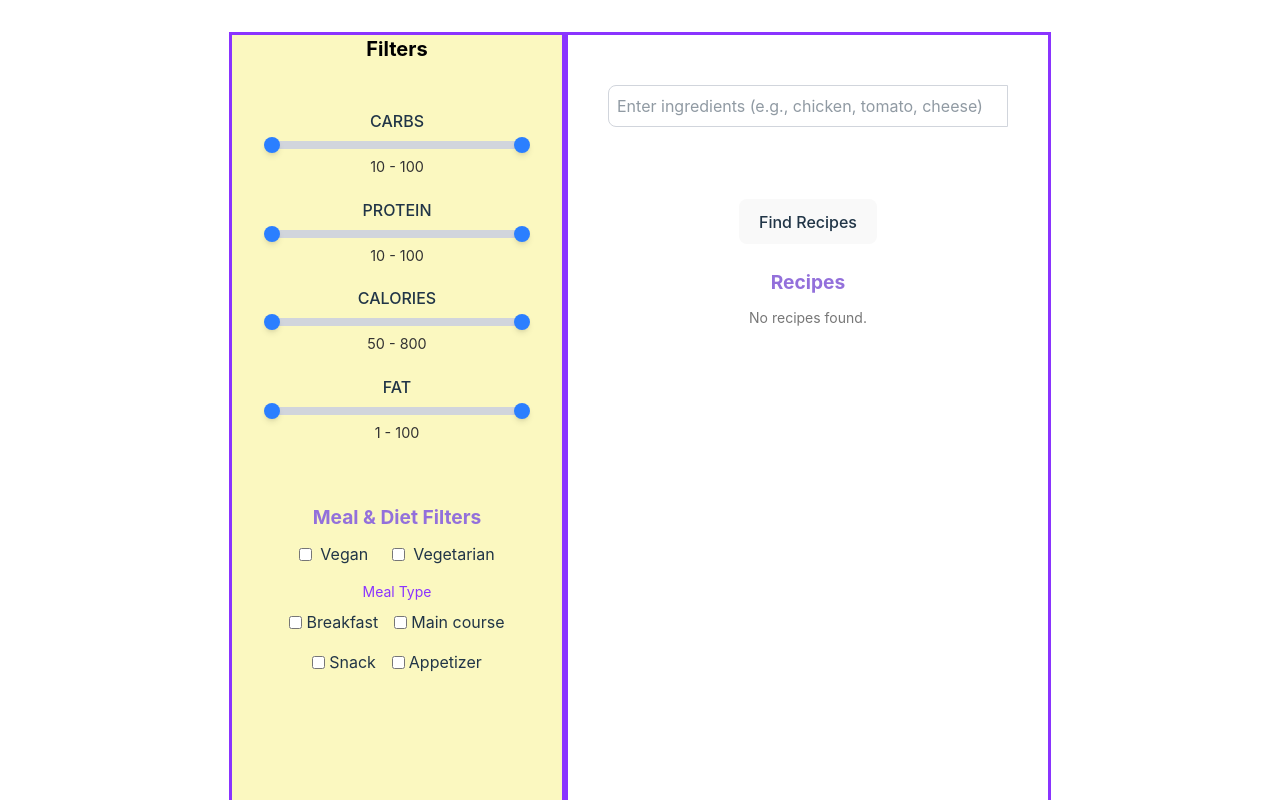
Test: UnifiedReciSearch integrpeation tests › Integration Test 1: Displays recipes when API returns results
The width and height of the screenshot is (1280, 800).
Type "chicken" into the field with placeholder "Enter ingredients (e.g., chicken, tomato, cheese)" at (808, 106), box [608,85,1008,127]
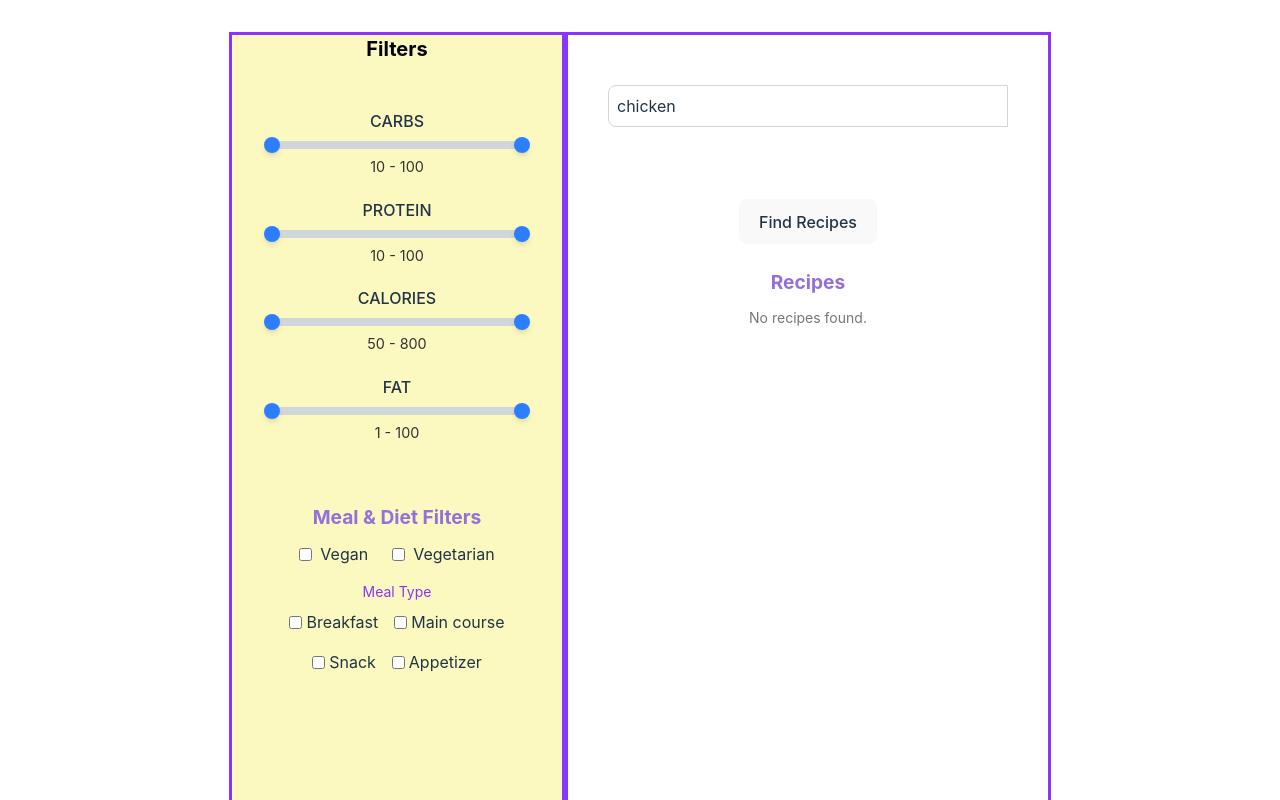
Click the button "Find Recipes" at (808, 222), box [739,199,877,244]
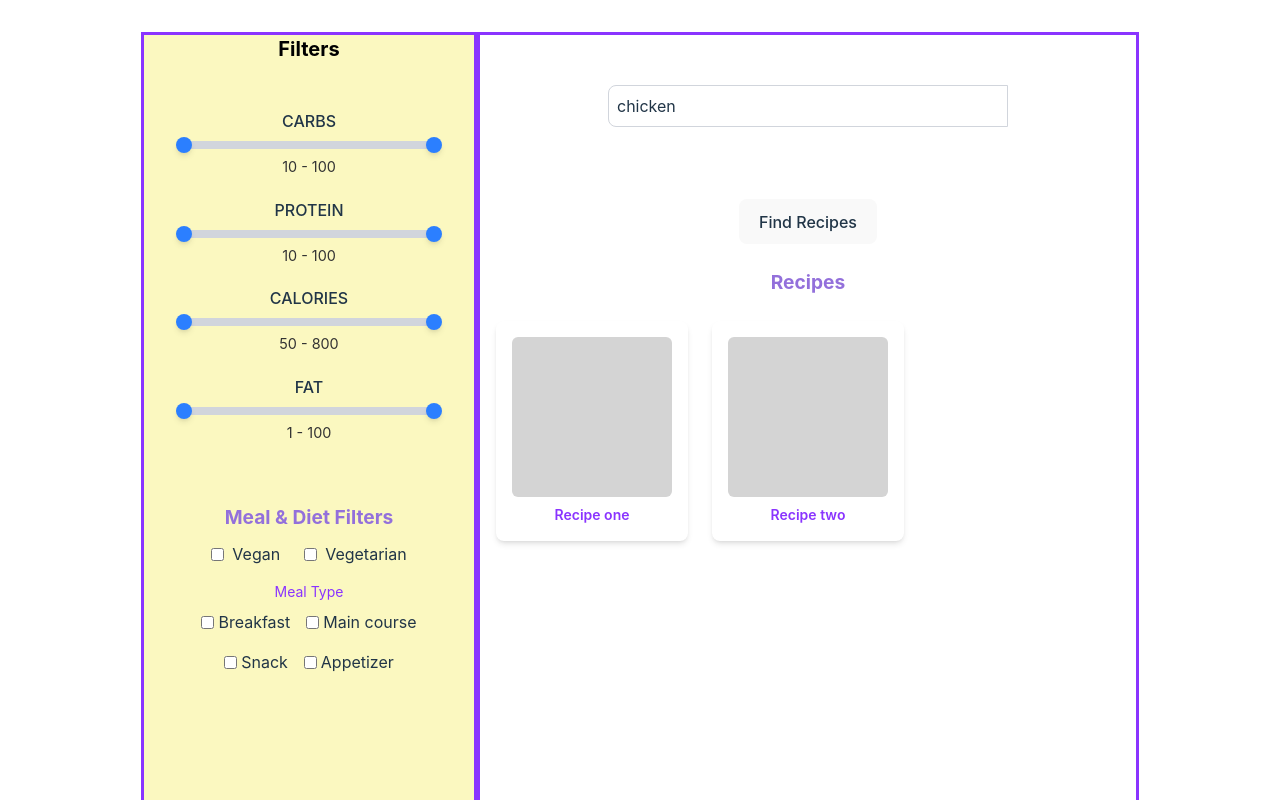
Now the heading "Recipe one" is shown, box [554,506,630,523]
Now the heading "Recipe two" is shown, box [771,506,846,523]
